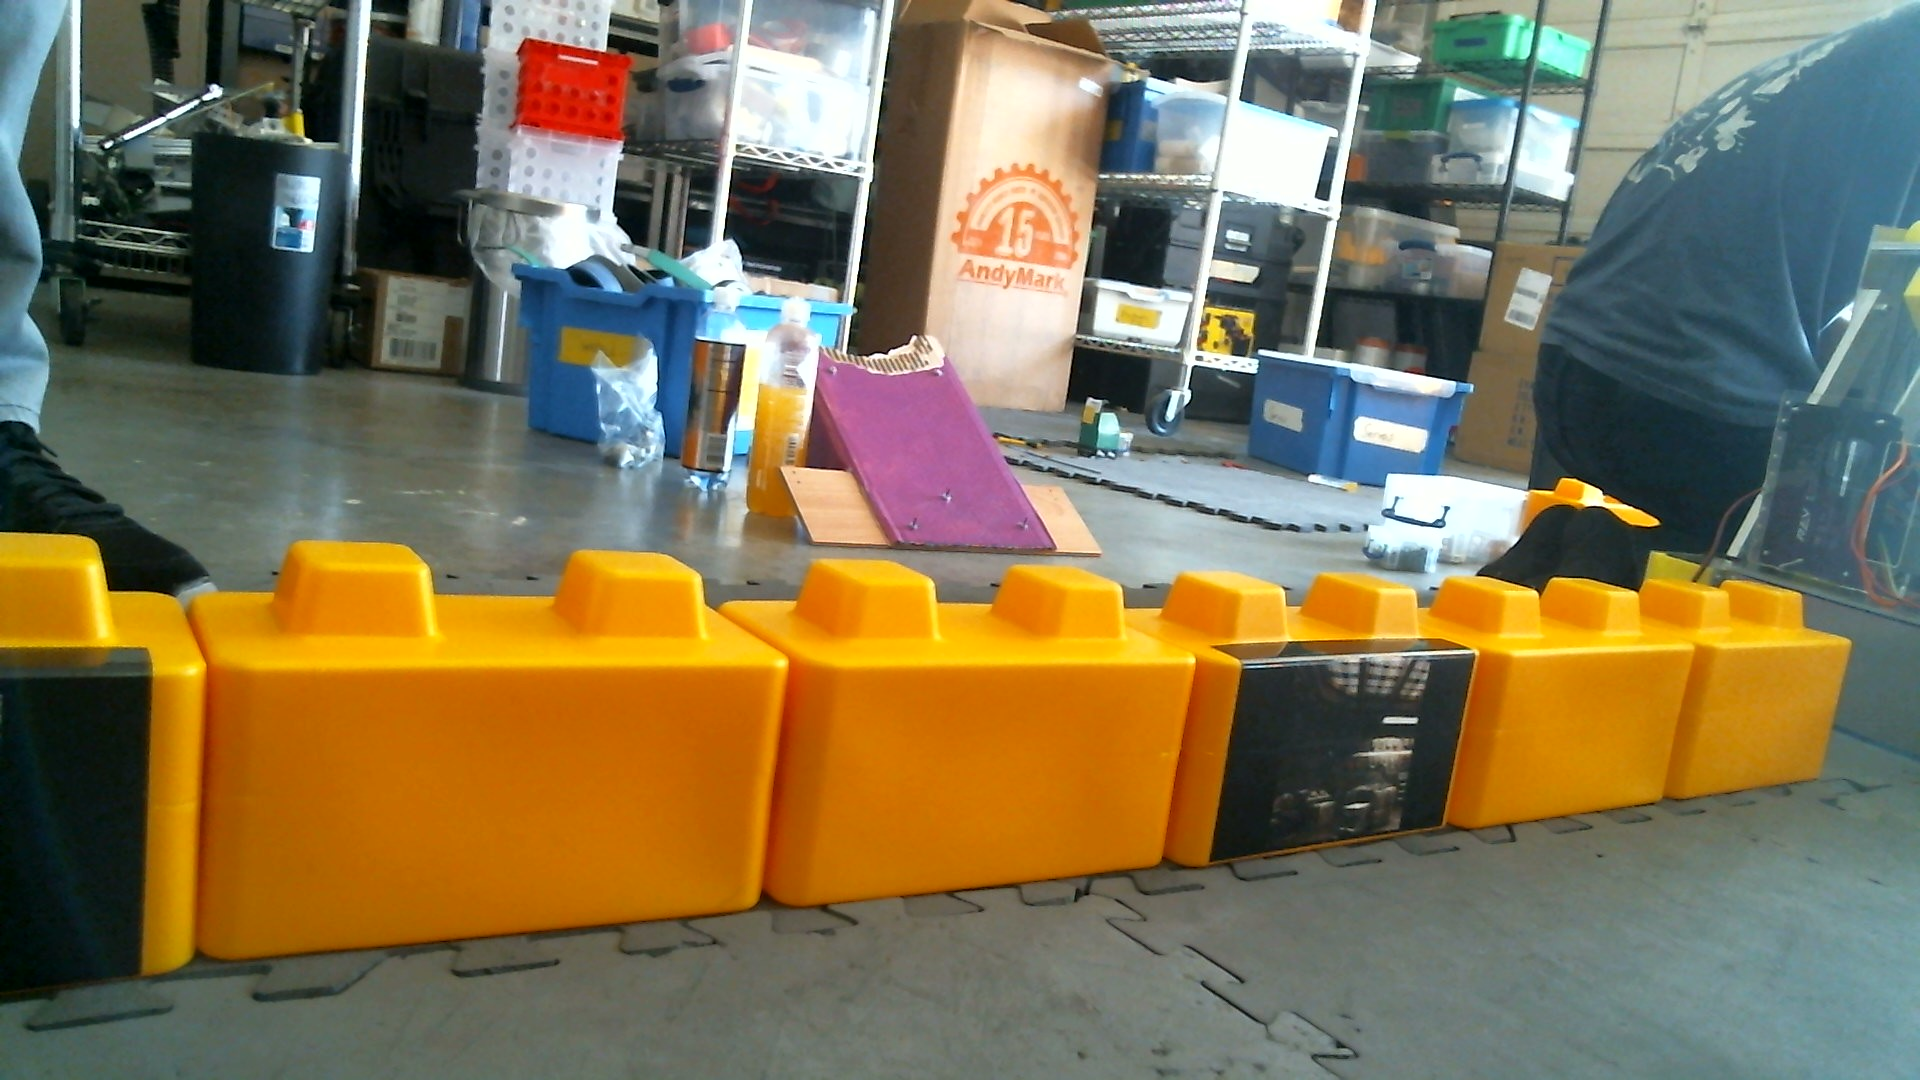skystone: (1160, 570, 1461, 856), (3, 533, 189, 982)
stone: (204, 545, 769, 922), (778, 556, 1175, 882), (1443, 579, 1683, 825), (1665, 574, 1851, 800)
